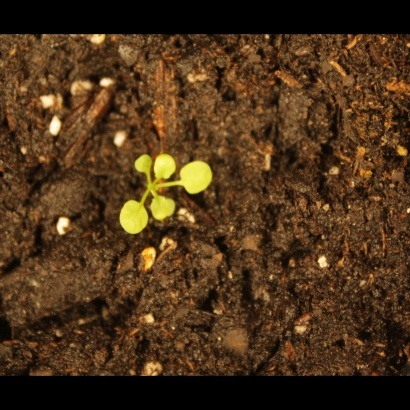leaf: (178, 154, 225, 199), (117, 196, 151, 239), (144, 191, 184, 222), (152, 147, 180, 185), (129, 150, 155, 183)
